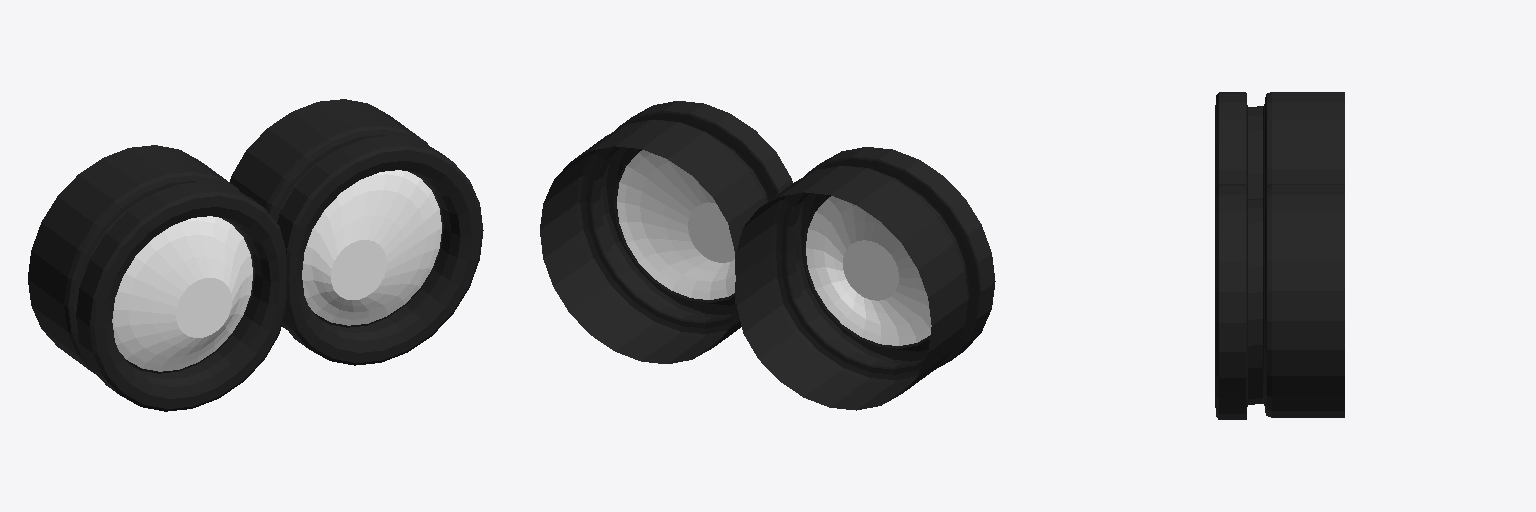
The model's file is eye_out.obj.
3 views of the same model, side by side, from view 1: azimuth 30°, elevation 25°; view 2: azimuth 150°, elevation 25°; view 3: azimuth 270°, elevation 25° (orthographic).
Visible parts, largest first — view 1: body:Mesh; view 2: body:Mesh; view 3: body:Mesh.
Part boxes in pixels (left/top/right/bottom): body:Mesh: left=28, top=99, right=483, bottom=411; body:Mesh: left=540, top=101, right=995, bottom=410; body:Mesh: left=1215, top=92, right=1344, bottom=419.
Size of the model in its own units: 2.1 by 1.09 by 0.5968.